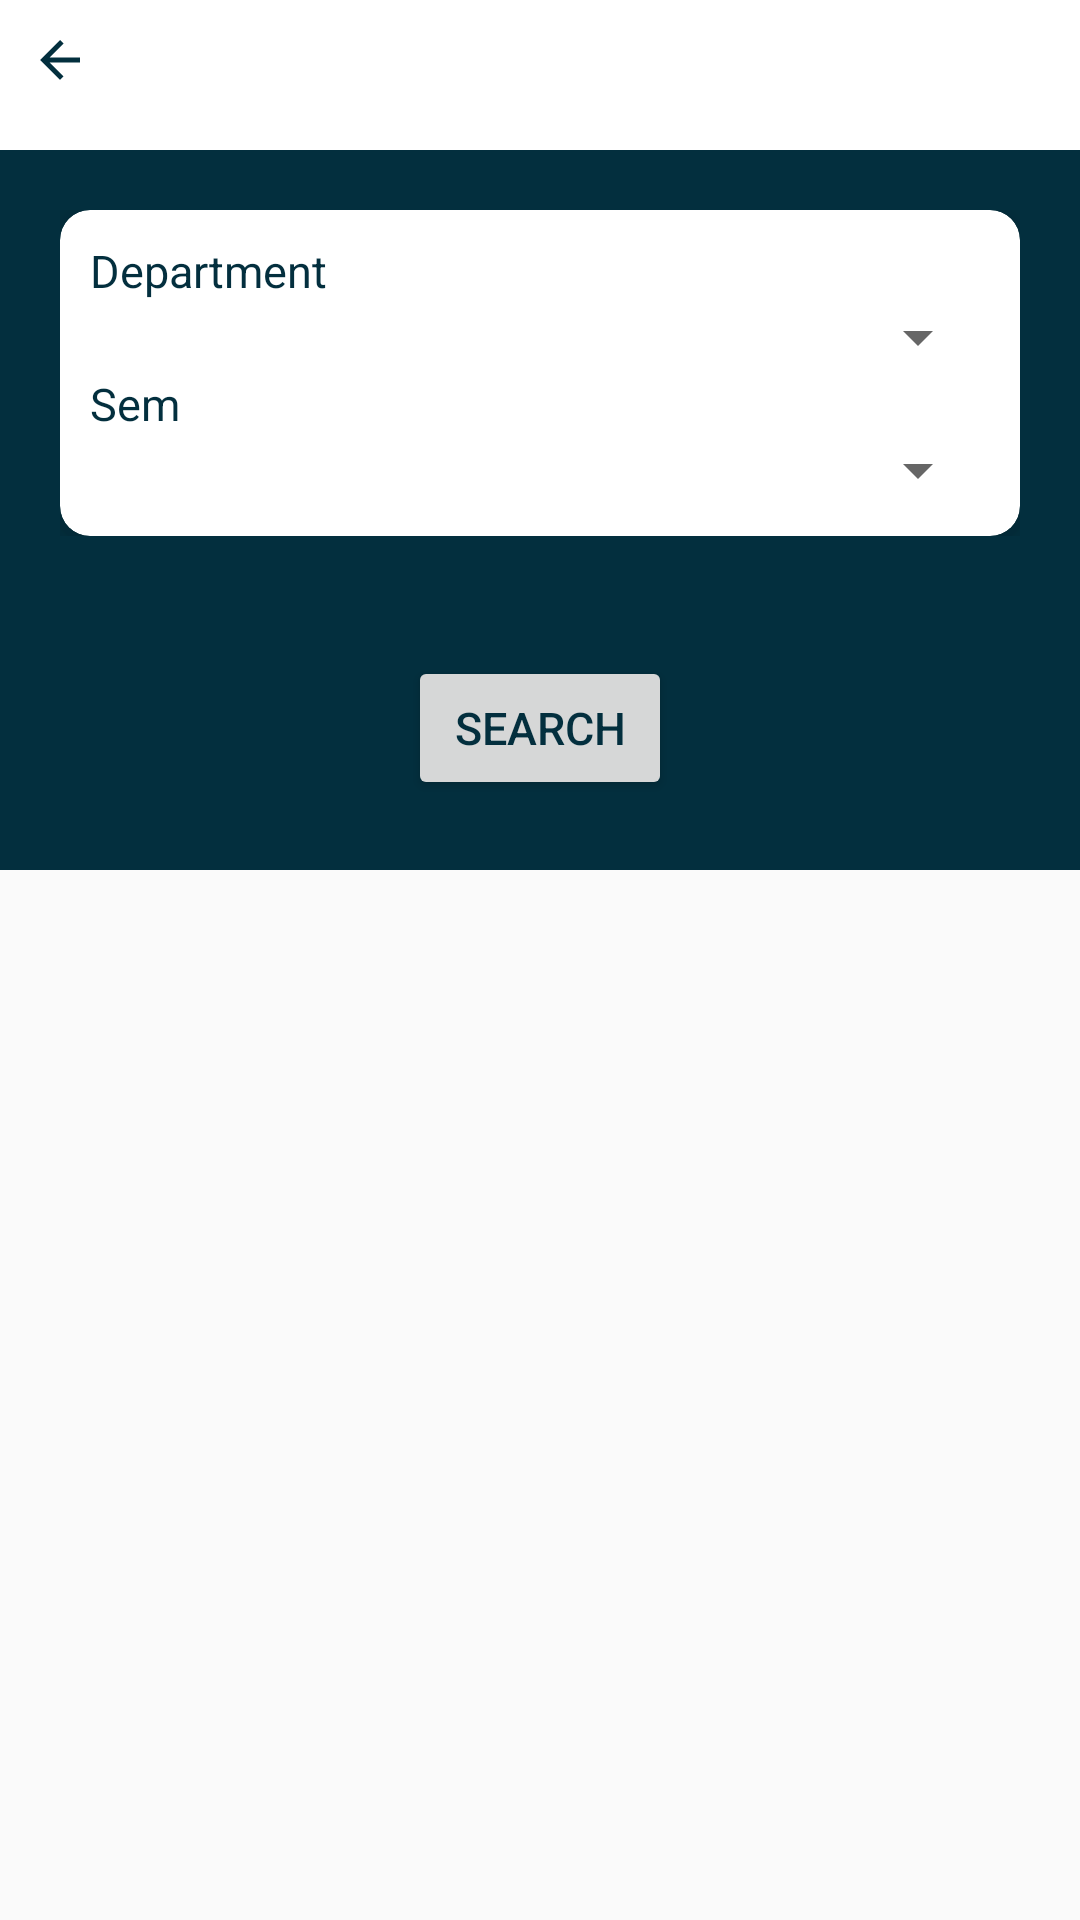

Where icons sit on this 1080px×1920px app screen, as (x1, y1, x2, y2):
arrow back: (40, 40, 80, 80)
